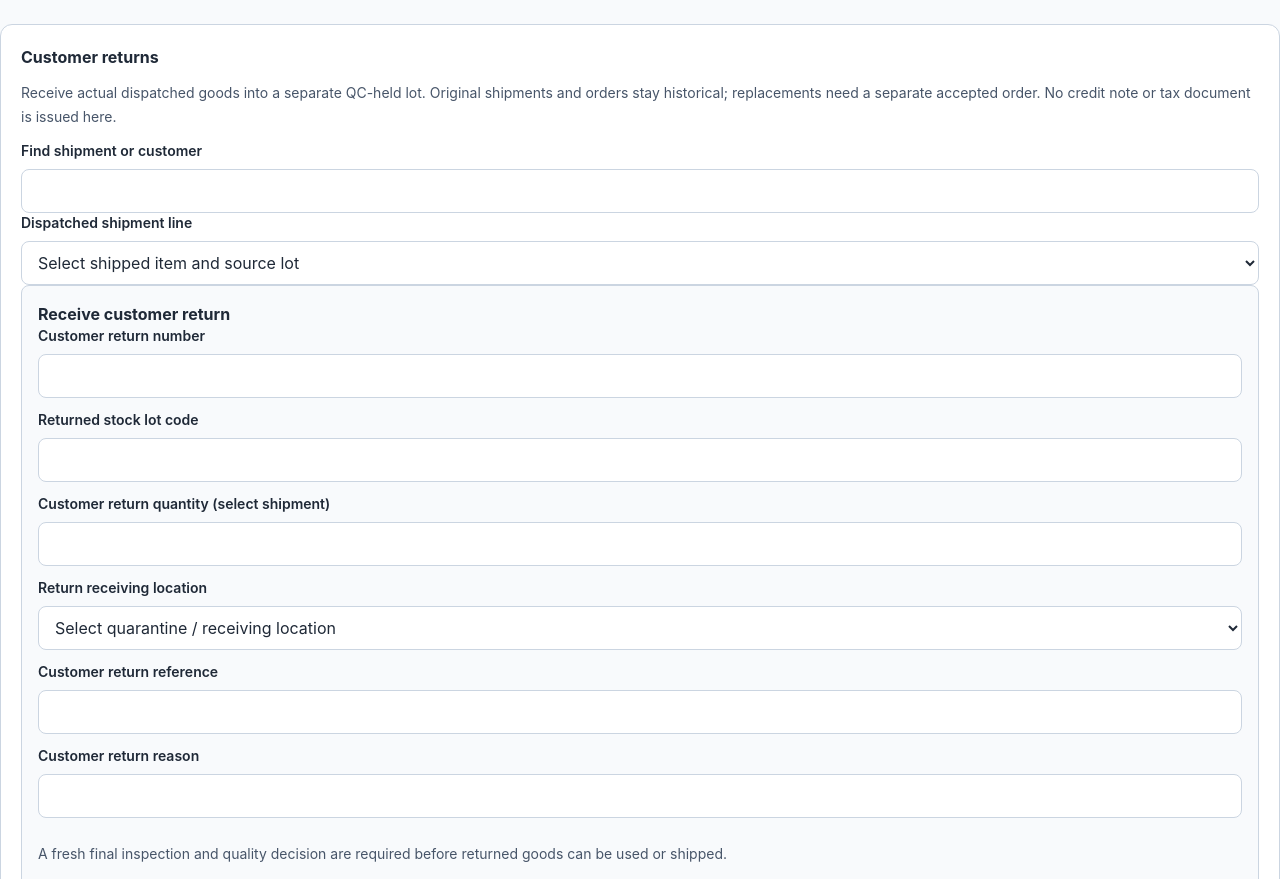
customer return custody › waits for server confirmation and preserves exact units and shipment revision
Step 1. Select "SAMPLE-SHIP · SAMPLE customer · SAMPLE-ITEM · SAMPLE-SOURCE" in the dropdown labelled "Dispatched shipment line" → (640, 263), box [21,241,1259,285]
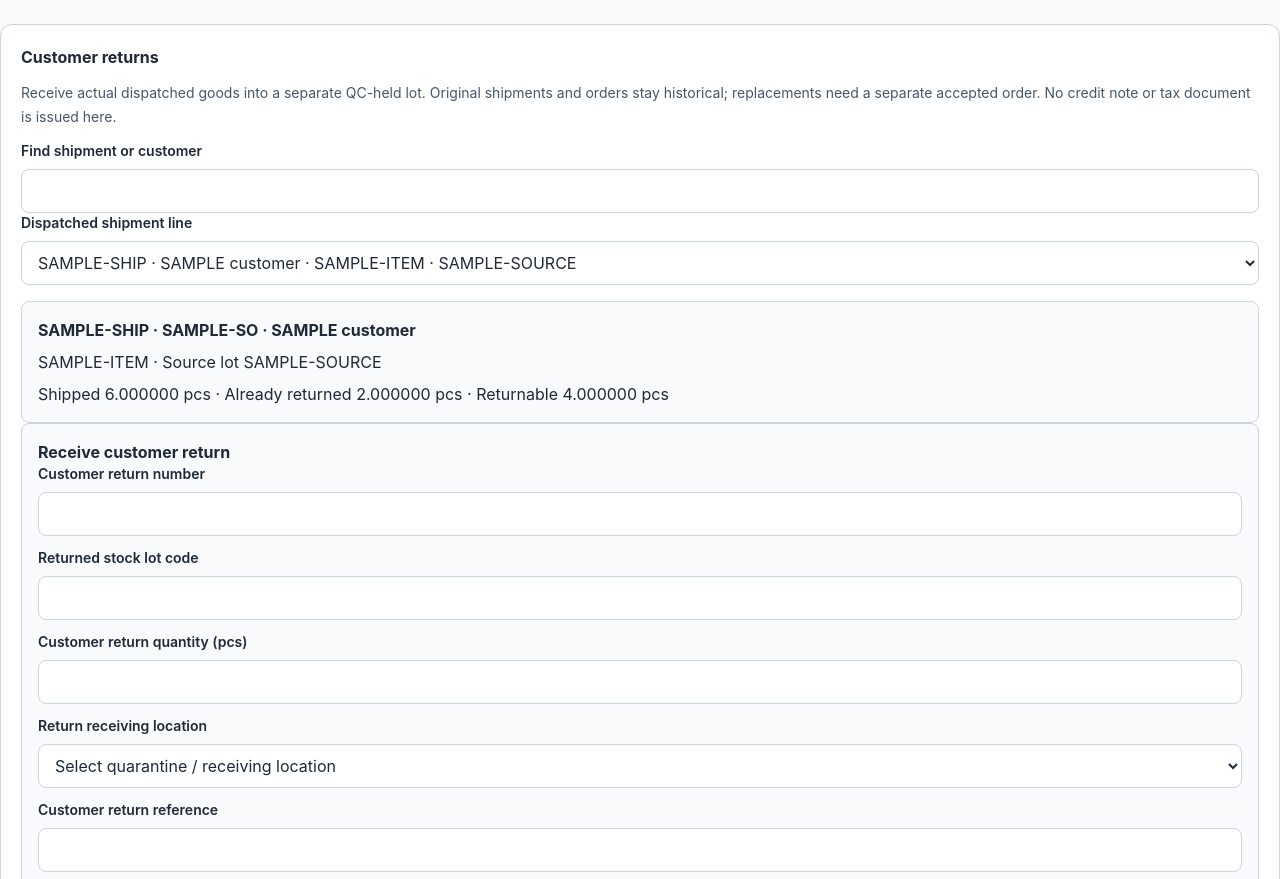
Step 2. Type "SAMPLE-RET" into the field labelled "Customer return number" → (640, 514), box [38,492,1242,536]
Step 3. Type "SAMPLE-LOT" into the field labelled "Returned stock lot code" → (640, 598), box [38,576,1242,620]
Step 4. Type "0.000001" into the field labelled "Customer return quantity" → (640, 682), box [38,660,1242,704]
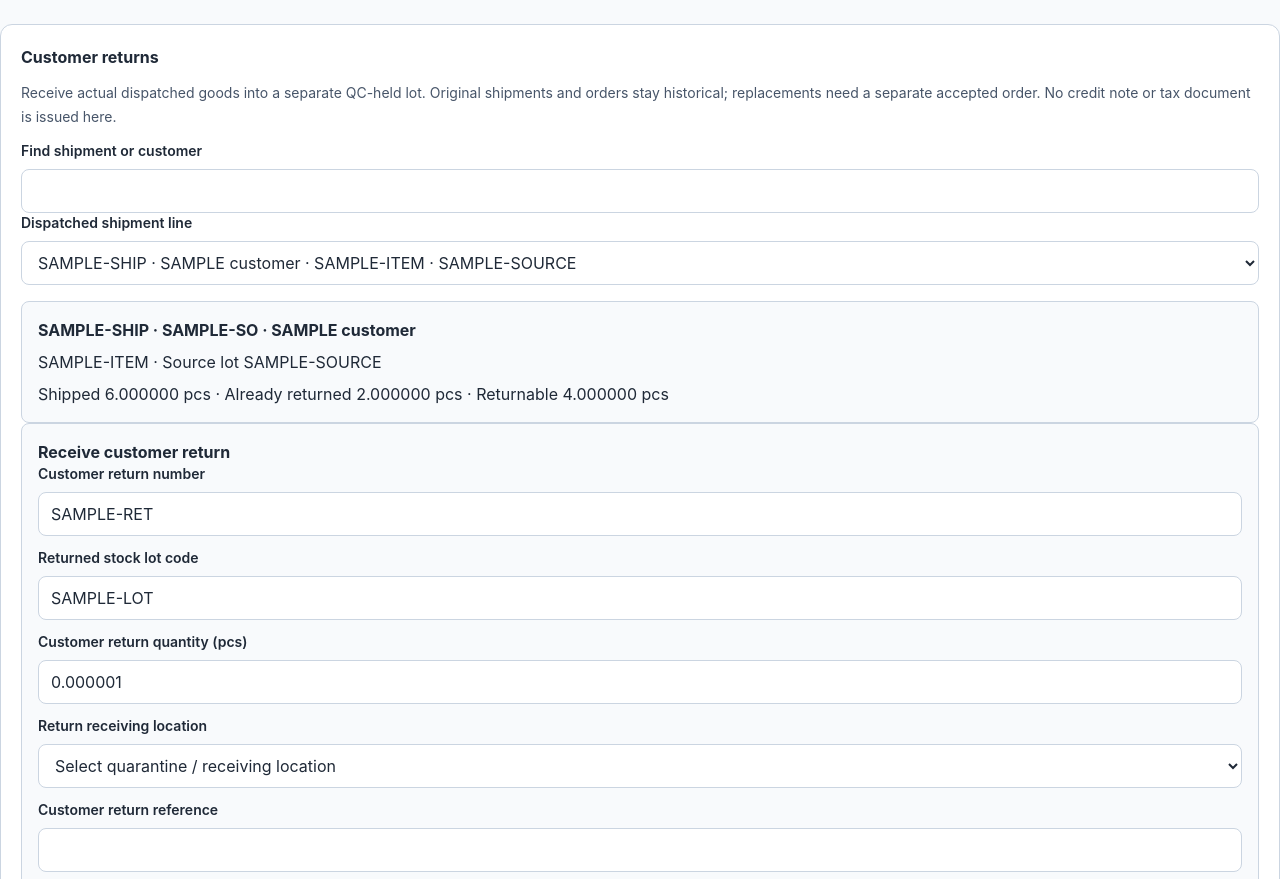
Step 5. Select "SAMPLE-L — SAMPLE receiving" in the dropdown labelled "Return receiving location" → (640, 766), box [38,744,1242,788]
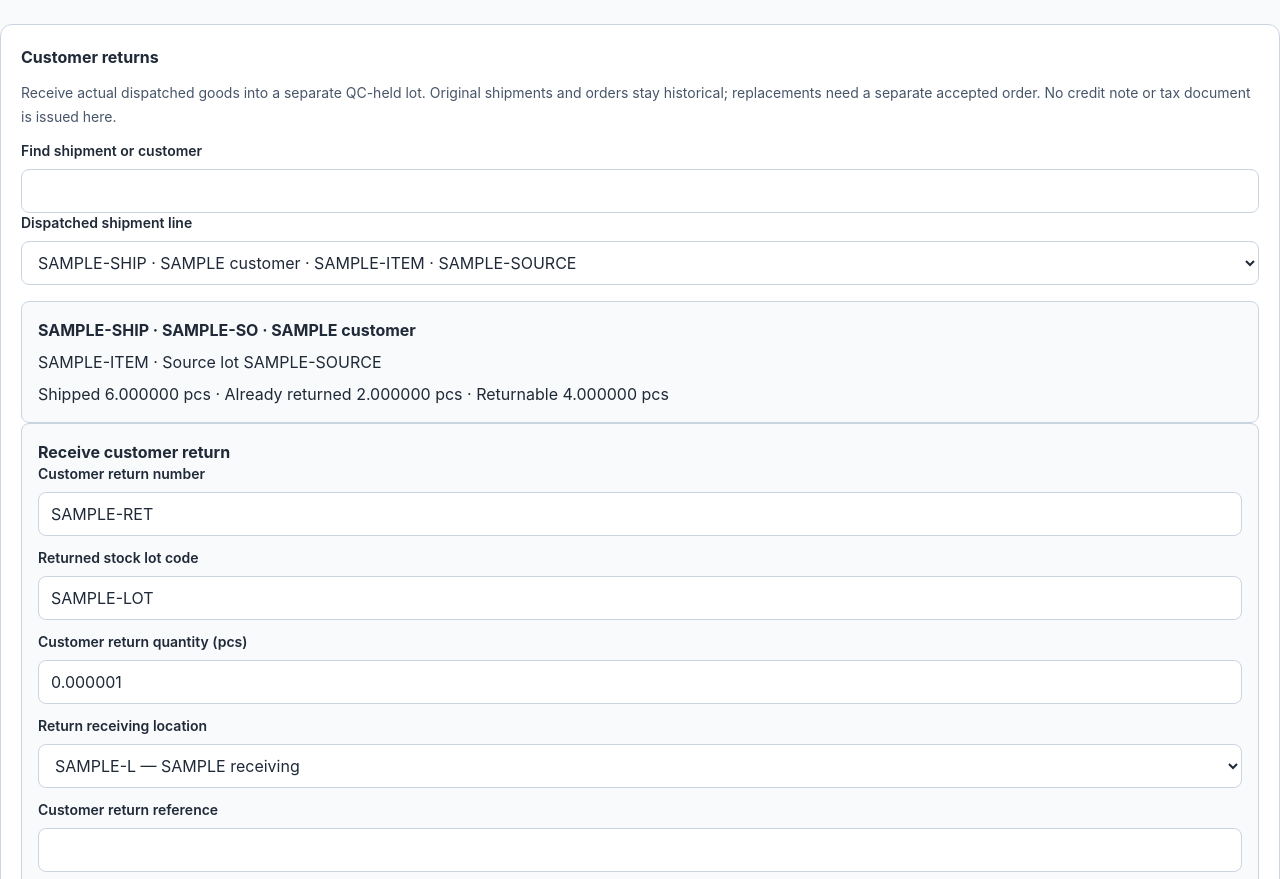
Step 6. Type "SAMPLE note" into the field labelled "Customer return reference" → (640, 850), box [38,828,1242,872]
(page scrolled)
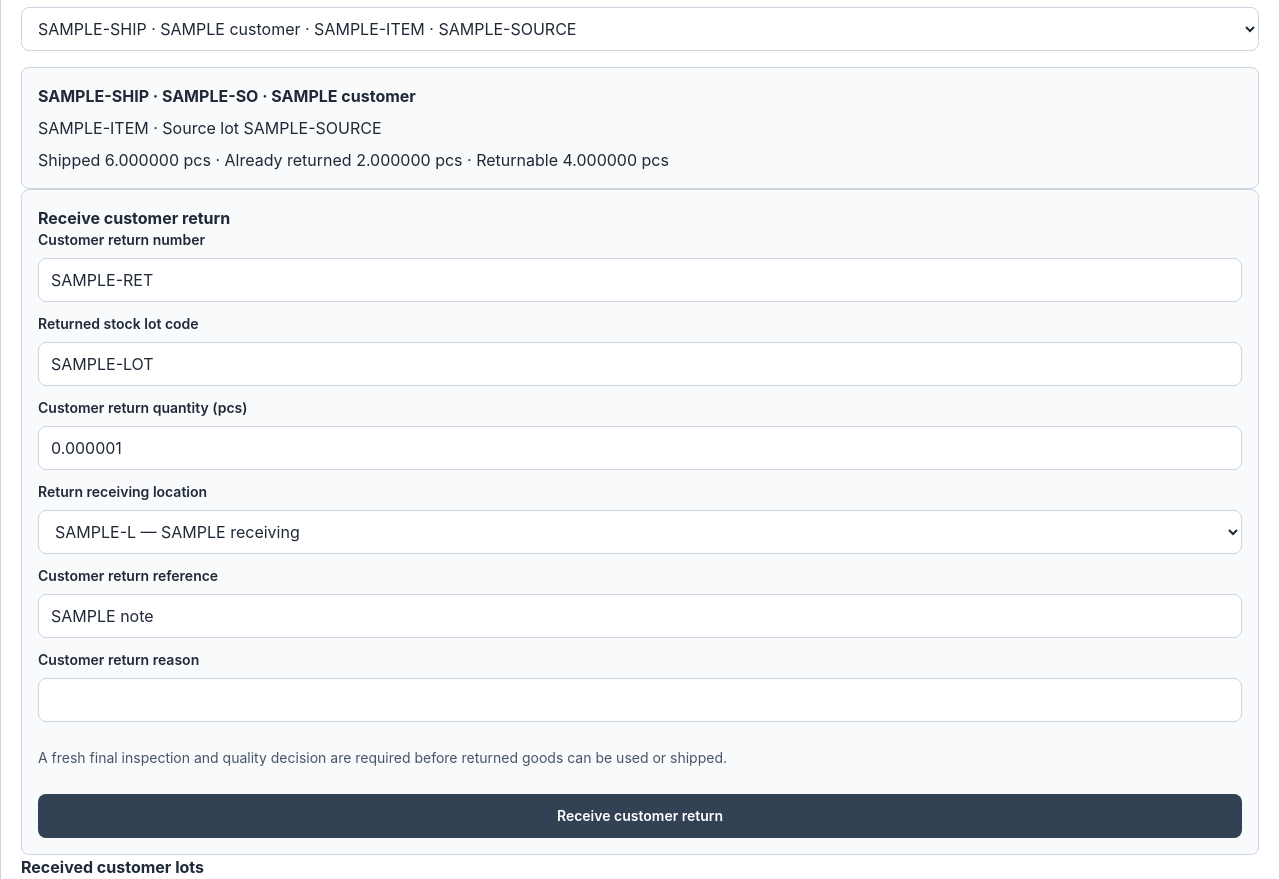
Step 7. Type "SAMPLE condition" into the field labelled "Customer return reason" → (640, 700), box [38,678,1242,722]
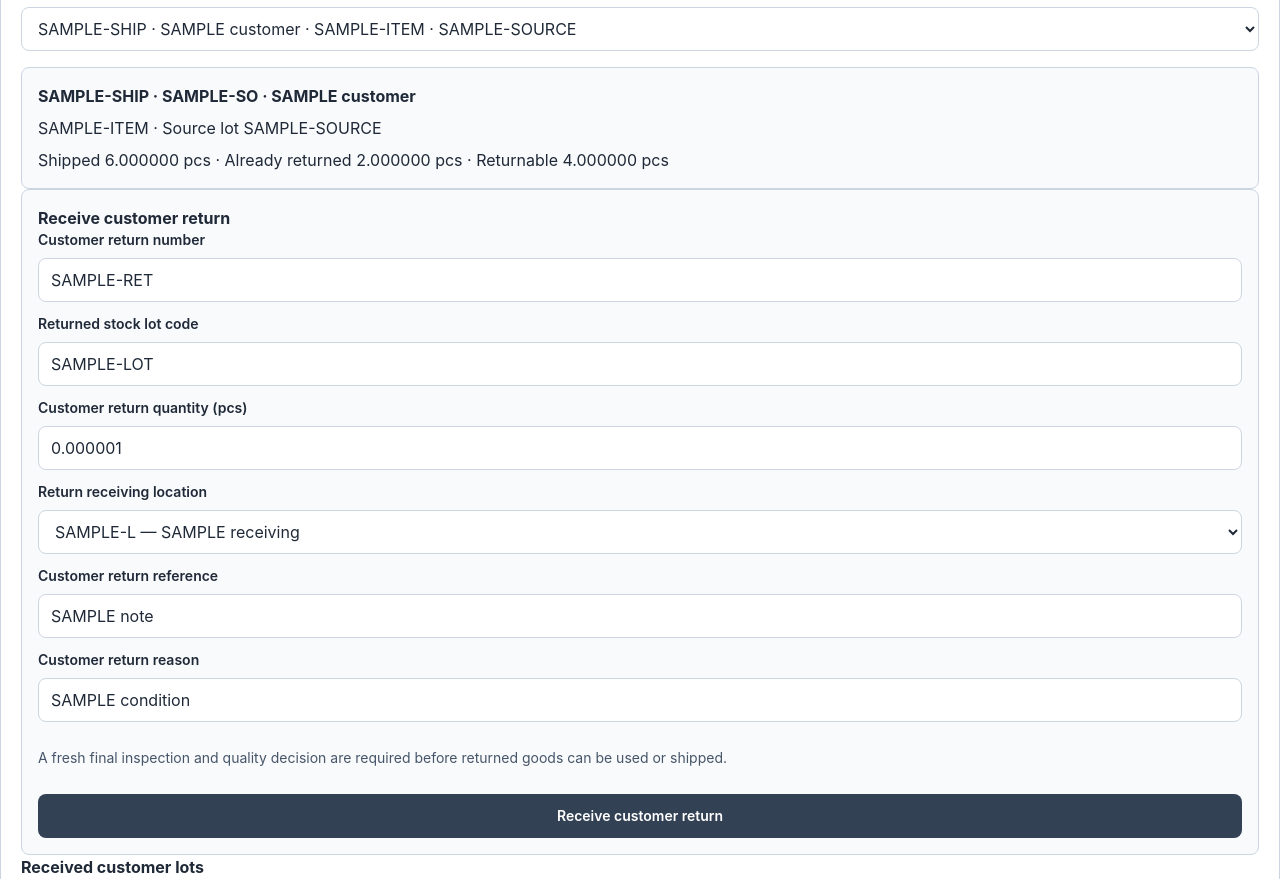
Step 8. Submit the form "Receive customer return"
(page scrolled)
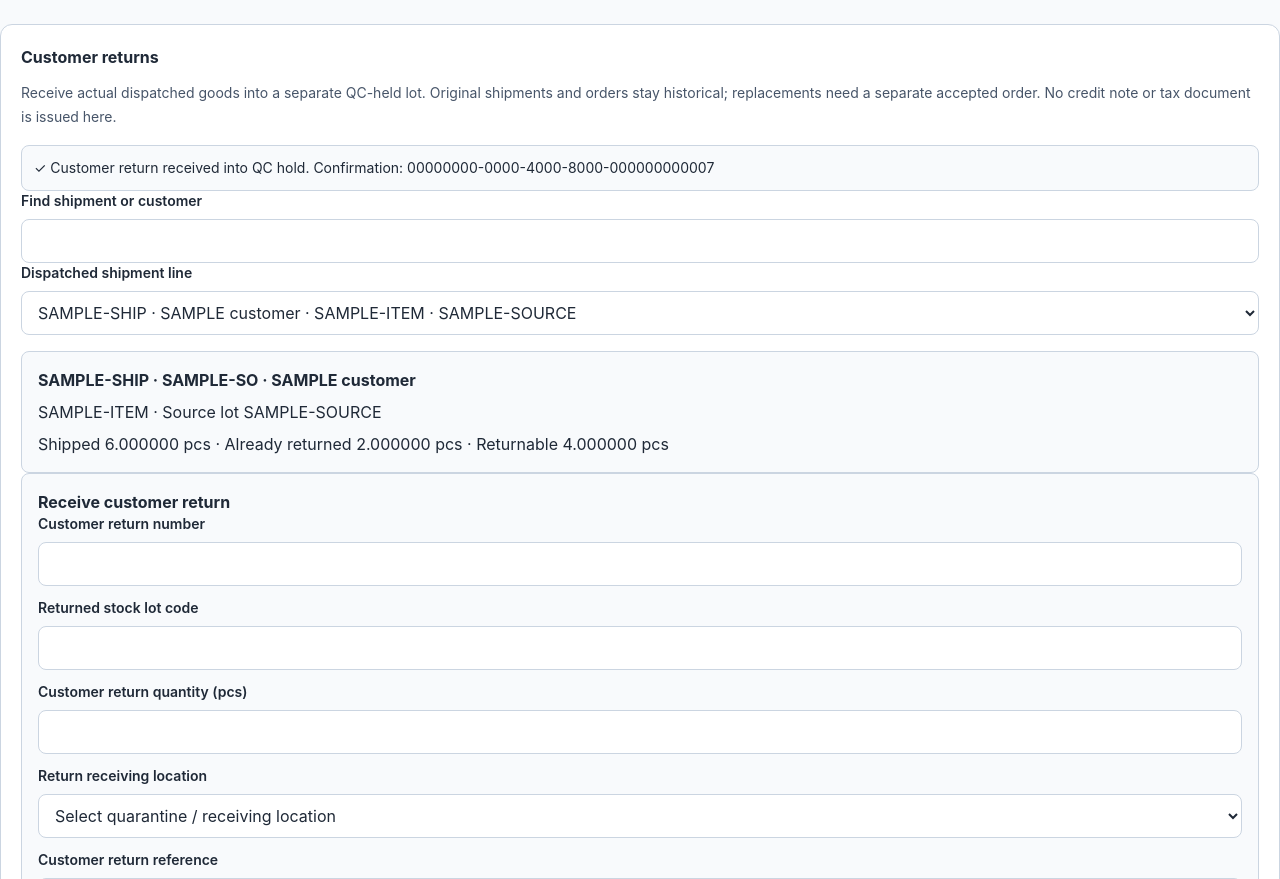
Now the message shows "Customer return received into QC hold.", box [50,159,714,176]
